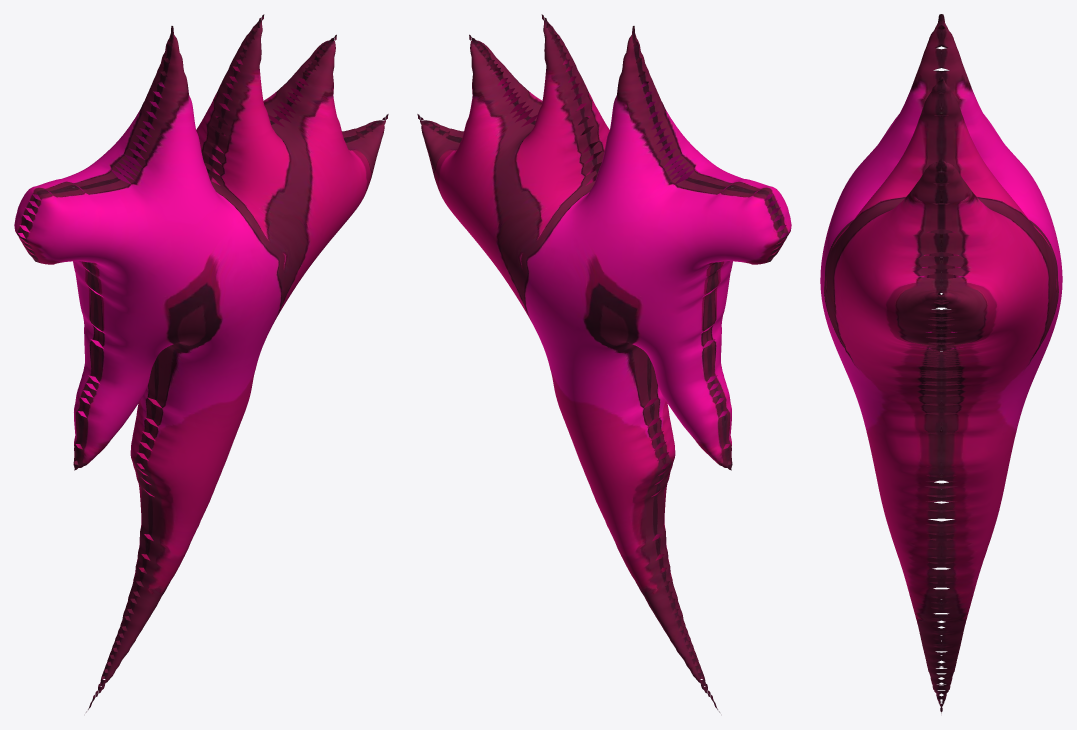
Rendered from spiked_crest.glb.
3 views of the same model, side by side, from view 1: azimuth 30°, elevation 25°; view 2: azimuth 150°, elevation 25°; view 3: azimuth 270°, elevation 25° (orthographic). The views are drawn at different scales.
Parts seen in each view (by area): view 1: spiked_crest; view 2: spiked_crest; view 3: spiked_crest.
Boxes of the visible parts, x1,y1,x2,y2 form: spiked_crest: [14, 14, 388, 712]; spiked_crest: [417, 14, 791, 712]; spiked_crest: [820, 14, 1062, 713].
Bounding box in the file's own units: 0.9723 × 1.69 × 0.4932.
Materials: 1 (1 with a texture image).
